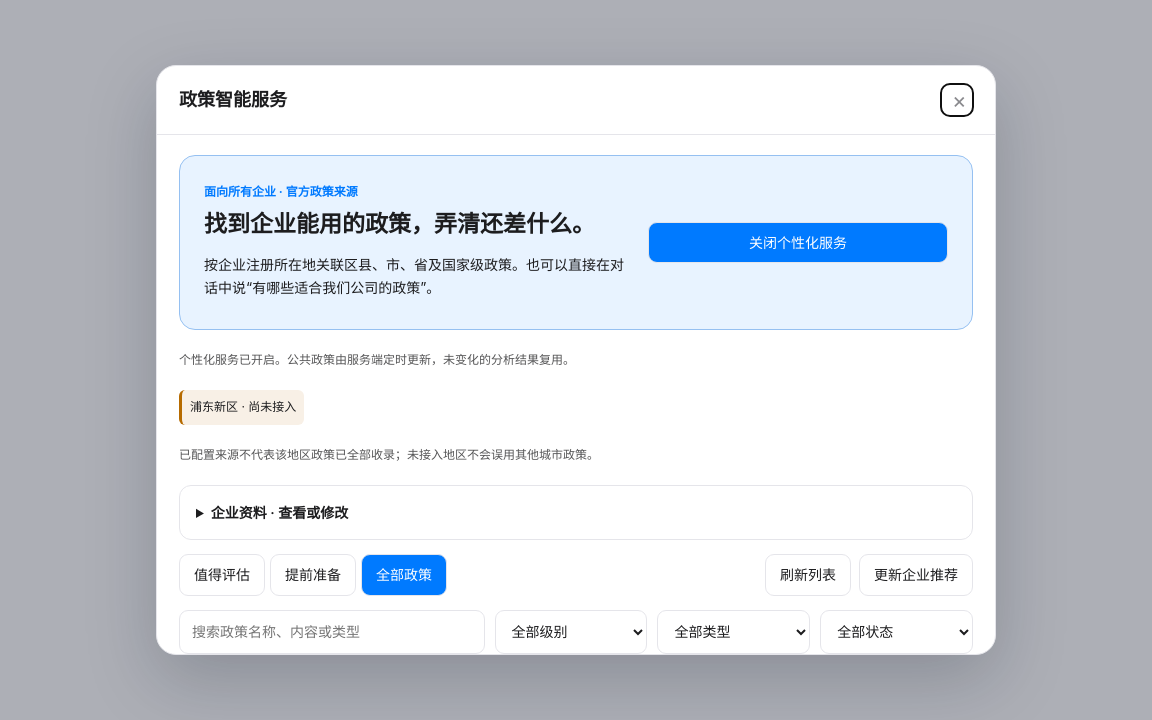
Test: 全国企业政策服务界面 › reconciles a lost configure response with a read, without resubmitting
Click the button "关闭个性化服务" at (798, 243), box [648,222,948,263]
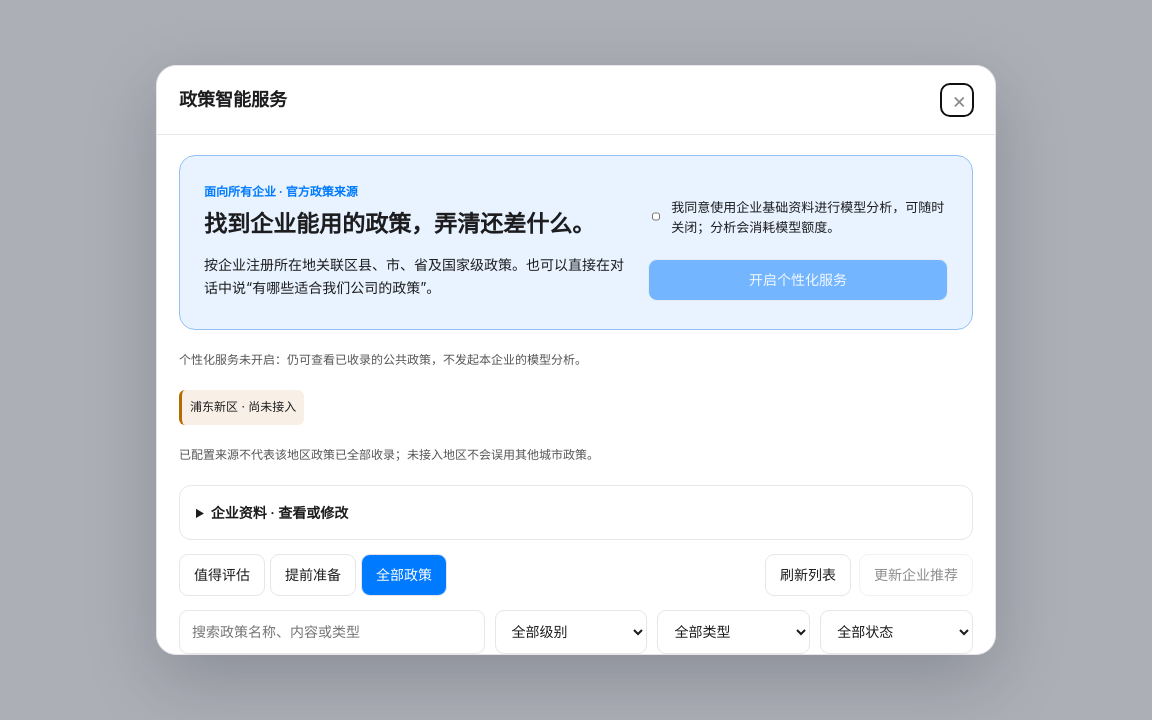
Check: the button "开启个性化服务" is shown, box [648,259,948,300]
